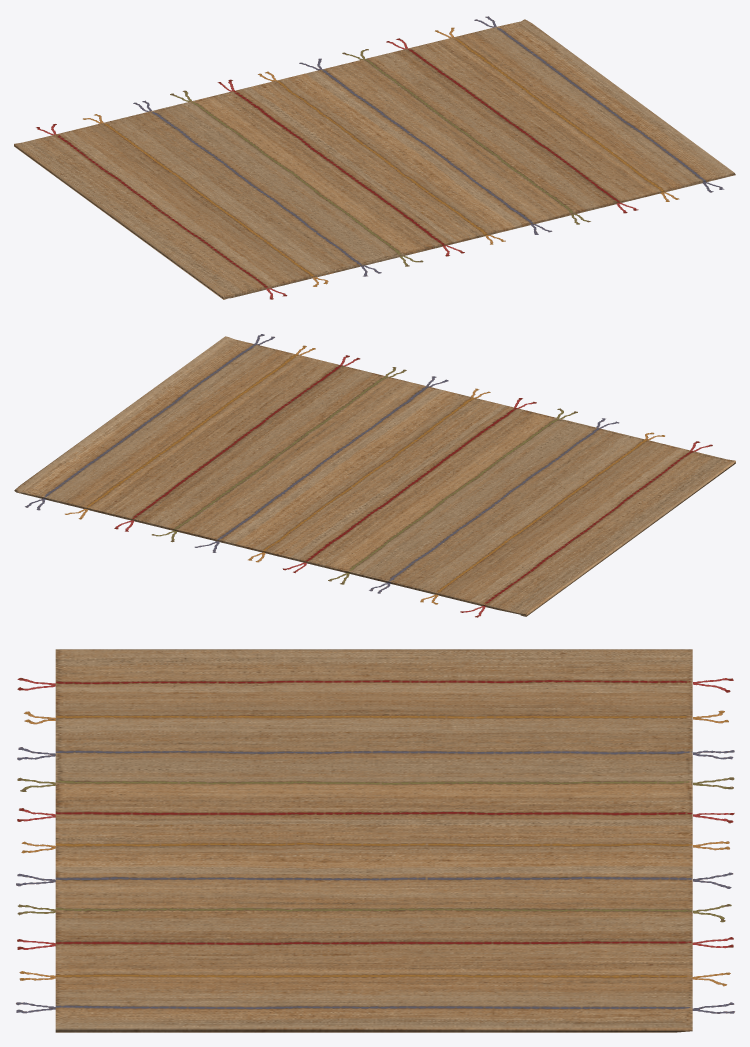
Rendered from 06 - RAKLEV Rug, flatwoven - handwovennatural multicolour 170x240 cm.glb.
The picture shows the model from 3 angles, top to bottom: view 1: azimuth 30°, elevation 25°; view 2: azimuth 150°, elevation 25°; view 3: azimuth 270°, elevation 25°; orthographic projection. The views are drawn at different scales.
Visible parts, largest first — view 1: ASY_ART_80610889_S01_NV01; view 2: ASY_ART_80610889_S01_NV01; view 3: ASY_ART_80610889_S01_NV01.
Part boxes in pixels (x1,y1,x2,y2): ASY_ART_80610889_S01_NV01: (14, 16, 735, 299); ASY_ART_80610889_S01_NV01: (14, 334, 735, 617); ASY_ART_80610889_S01_NV01: (16, 649, 734, 1032).
Bounding box in the file's own units: 2.4 × 0.0118 × 1.93.
Materials: 1 (1 with a texture image).
